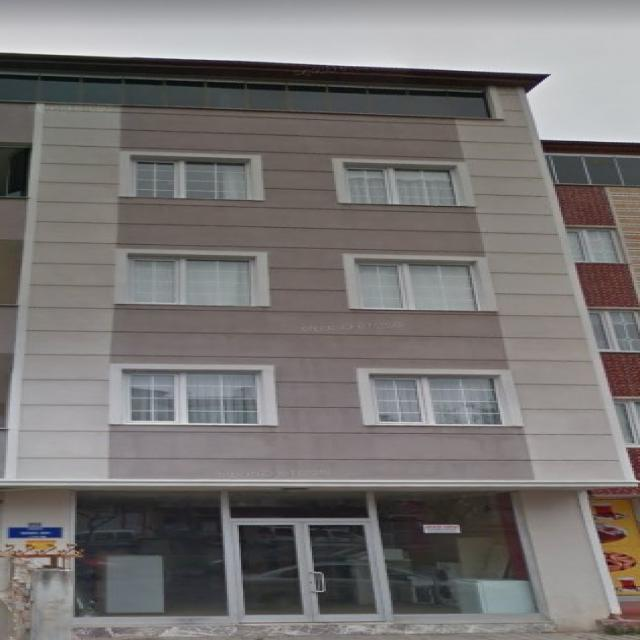Building: (0, 53, 636, 638)
